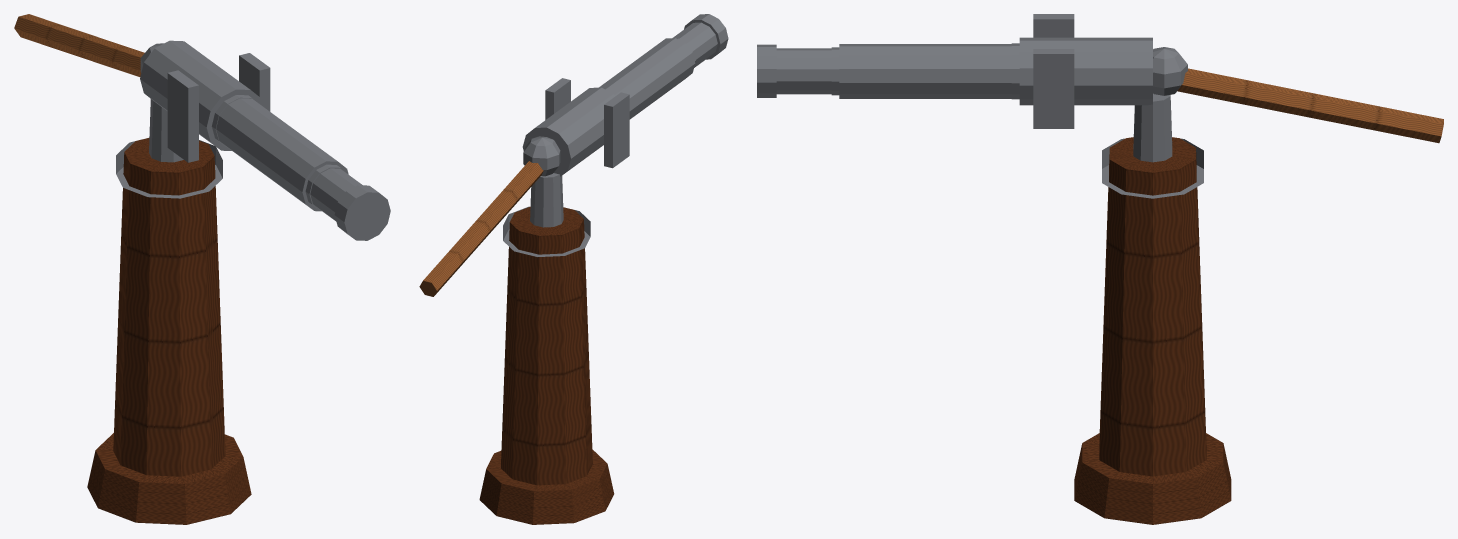
File: pirate-port-and-tall-ships-swivel-gun-871f150d__30160.glb
The picture shows the model from 3 angles, left to right: view 1: azimuth 30°, elevation 25°; view 2: azimuth 150°, elevation 25°; view 3: azimuth 270°, elevation 25°; orthographic projection. The views are drawn at different scales.
Parts seen in each view (by area): view 1: swivel-gun, swivel/iron, swivel/deck; view 2: swivel-gun, swivel/iron, swivel/deck; view 3: swivel-gun, swivel/iron, swivel/deck.
Part boxes in pixels (x1,y1,x2,y2): swivel-gun: (87, 138, 251, 524); swivel/iron: (140, 40, 390, 240); swivel/deck: (14, 14, 144, 76); swivel-gun: (479, 206, 614, 524); swivel/iron: (522, 14, 728, 227); swivel/deck: (419, 161, 543, 296); swivel-gun: (1074, 137, 1231, 524); swivel/iron: (757, 14, 1187, 162); swivel/deck: (1177, 68, 1443, 143).
Bounding box in the file's own units: 0.3999 × 1.22 × 1.67.
3 materials, 2 textured.
